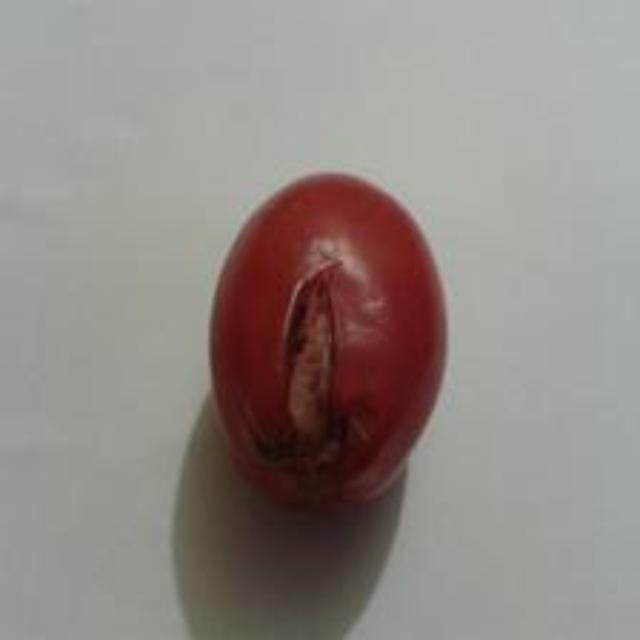defect: (205, 162, 451, 521)
